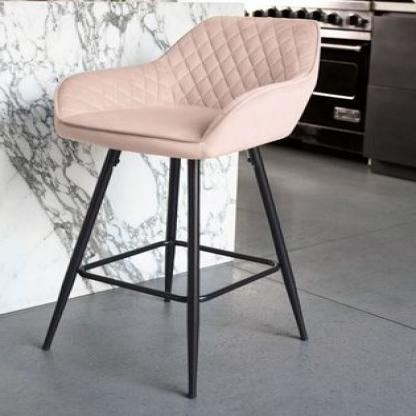chair: (29, 9, 339, 404)
